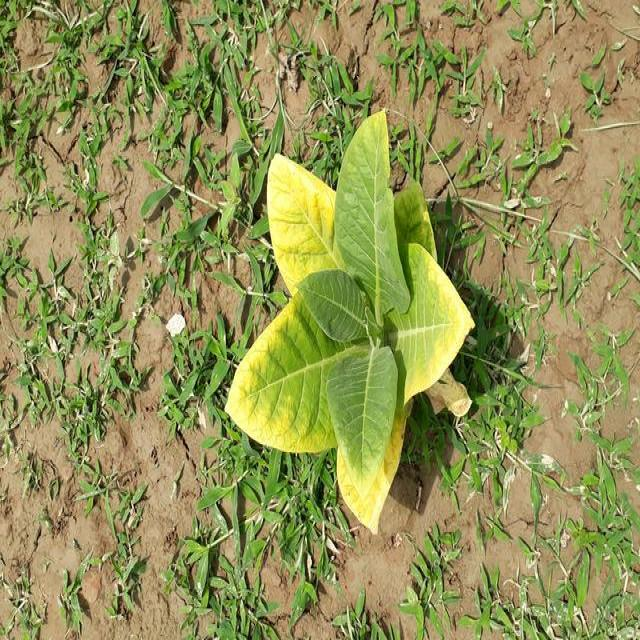crop: (218, 102, 480, 551)
